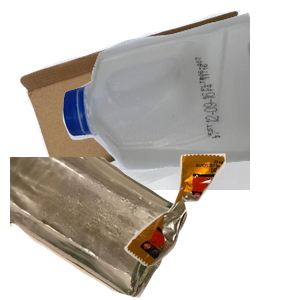cardboard: (16, 10, 256, 190)
glass: (10, 157, 190, 300)
plastic: (60, 10, 300, 175)
trash: (122, 151, 300, 300)
